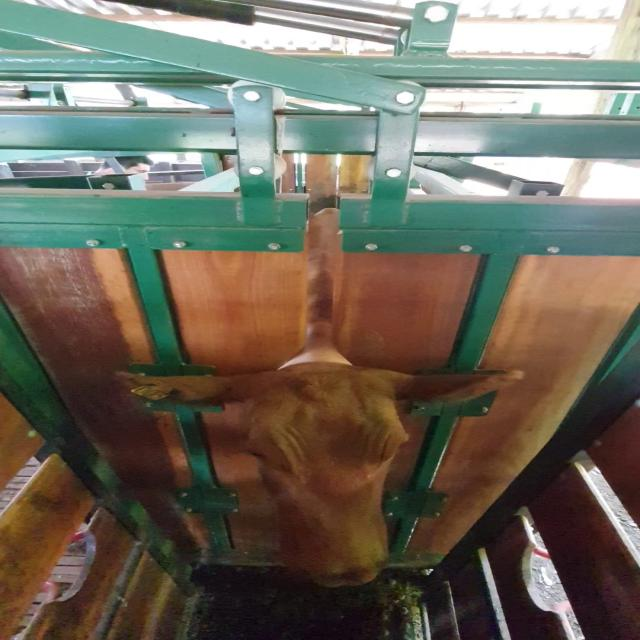cowFace: (243, 368, 407, 589)
